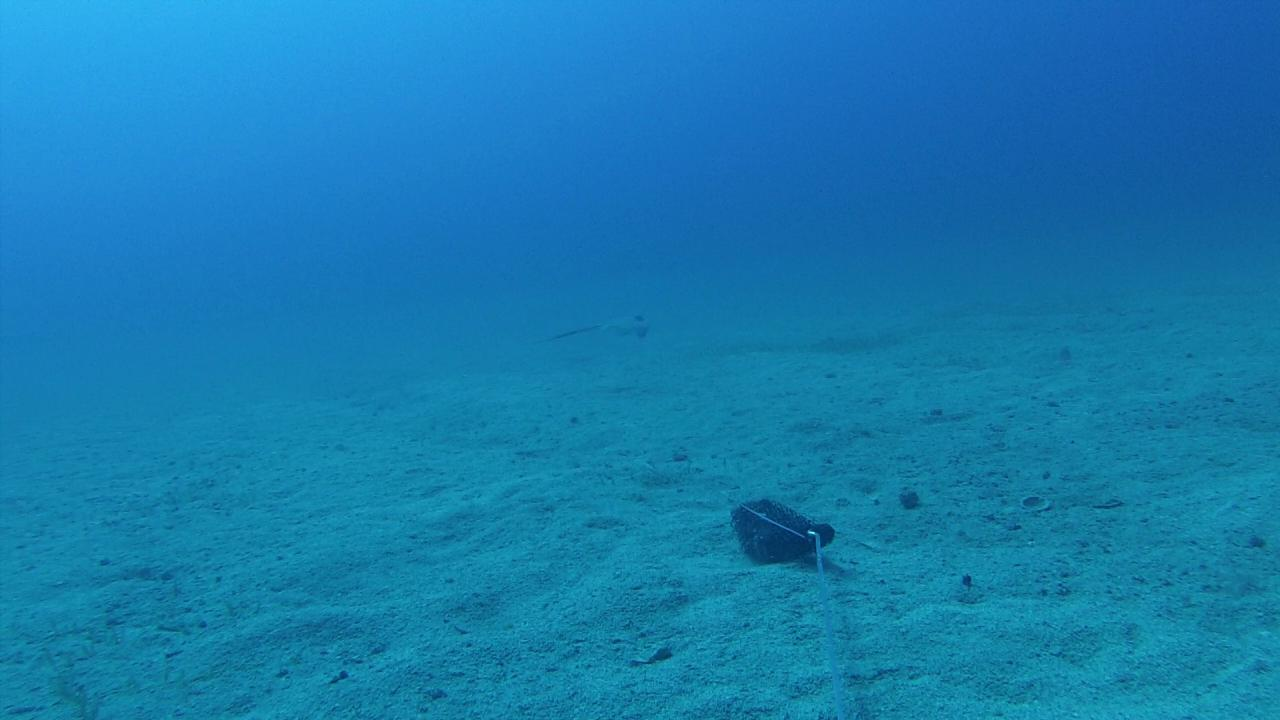dasyatis: (534, 312, 648, 342)
